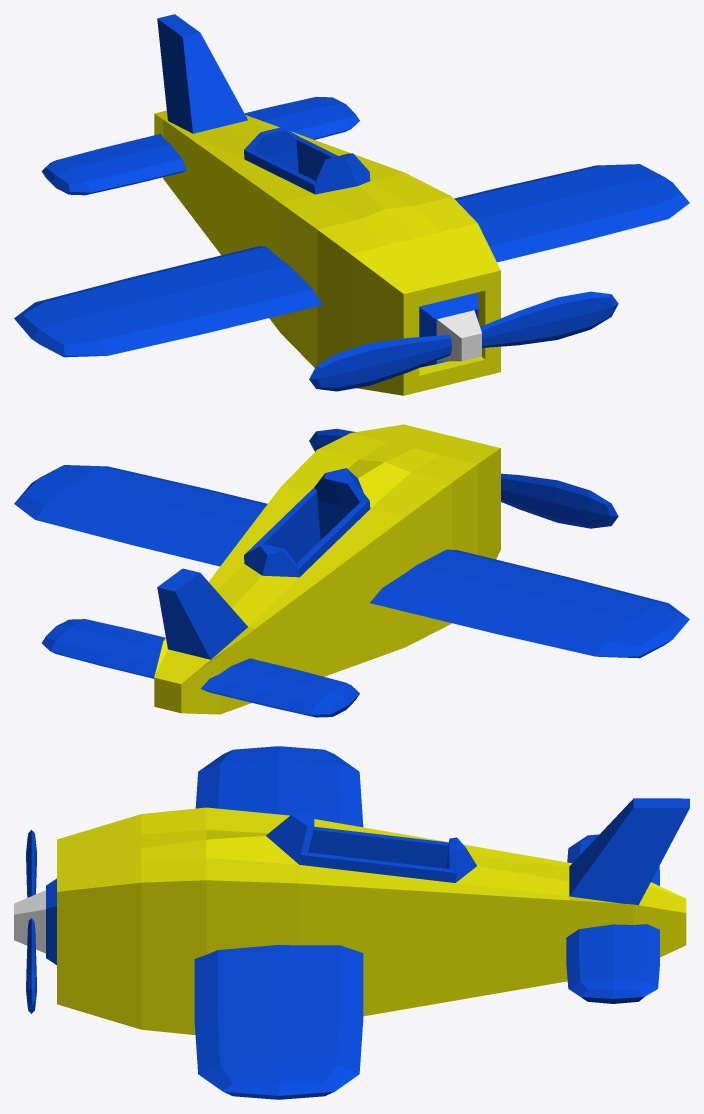
Rendered from 飛行機.fbx.
3 renders of one model, top to bottom at view 1: azimuth 30°, elevation 25°; view 2: azimuth 150°, elevation 25°; view 3: azimuth 270°, elevation 25°, orthographic. The views are drawn at different scales.
Parts seen in each view (by area): view 1: Cube, 立方体, 立方体.002, 立方体.001; view 2: Cube, 立方体, 立方体.001, 立方体.002; view 3: Cube, 立方体, 立方体.001, 立方体.002.
Part boxes in pixels (<box>): Cube: <box>154,14,500,395</box>; 立方体: <box>14,164,689,357</box>; 立方体.002: <box>309,291,618,391</box>; 立方体.001: <box>41,96,359,195</box>; Cube: <box>154,424,500,714</box>; 立方体: <box>14,465,689,658</box>; 立方体.001: <box>41,619,359,717</box>; 立方体.002: <box>309,428,618,528</box>; Cube: <box>14,798,689,1035</box>; 立方体: <box>194,746,363,1099</box>; 立方体.001: <box>566,834,659,1003</box>; 立方体.002: <box>26,830,36,1013</box>.
Bounding box in the file's own units: 856 × 227 × 707.
